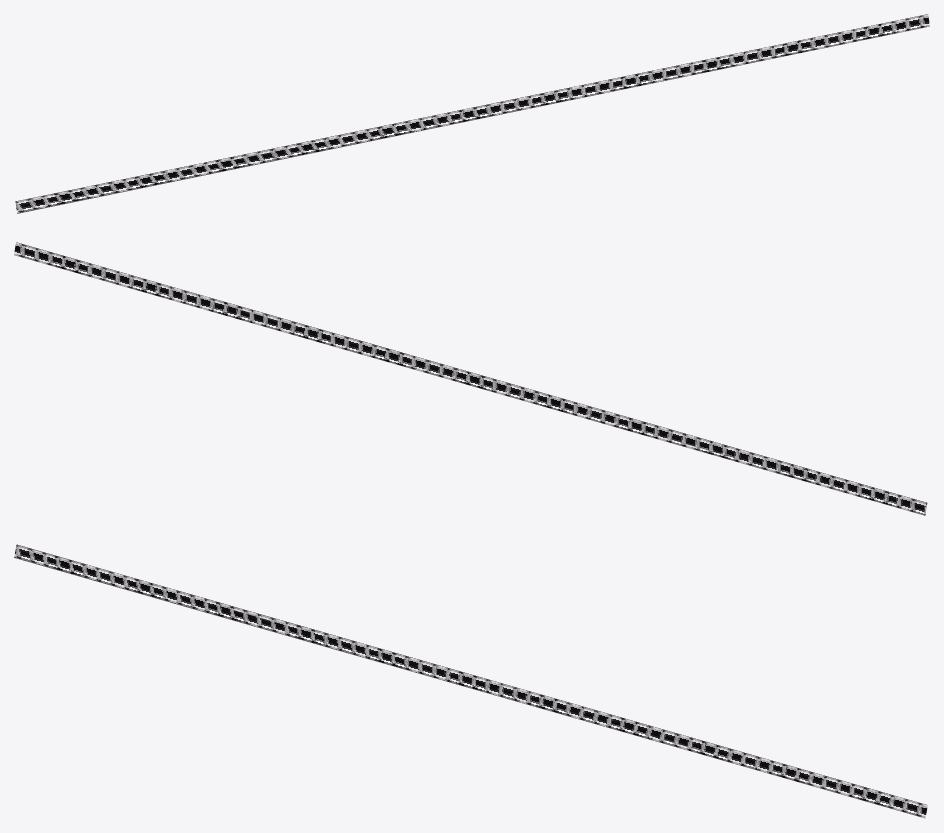
3 views of the same model, one above another, from view 1: azimuth 30°, elevation 25°; view 2: azimuth 150°, elevation 25°; view 3: azimuth 330°, elevation 25° (orthographic). The views are drawn at different scales.
Parts seen in each view (by area): view 1: Cylinder27; view 2: Cylinder27; view 3: Cylinder27.
Part boxes in pixels (left/top/right/bottom): Cylinder27: left=15, top=14, right=929, bottom=213; Cylinder27: left=14, top=242, right=927, bottom=515; Cylinder27: left=14, top=544, right=927, bottom=818.
Bounding box in the file's own units: 552 × 6.54 × 43.54.
1 material, 1 textured.
